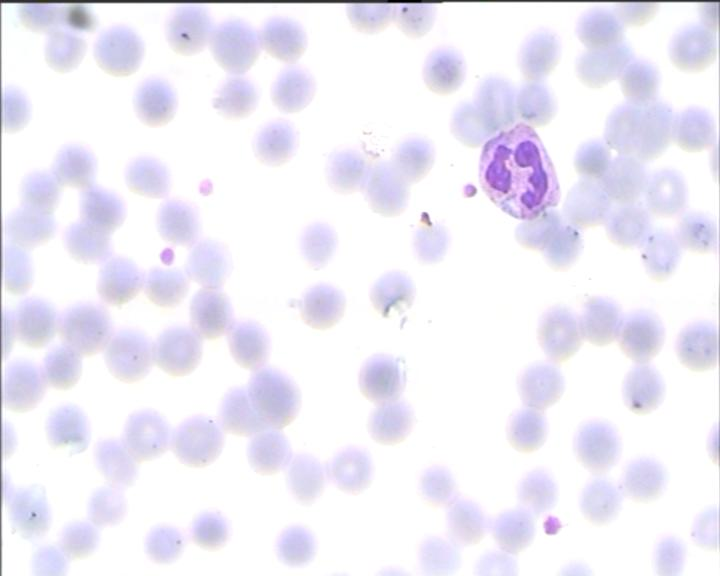neut: (475, 115, 567, 225)
